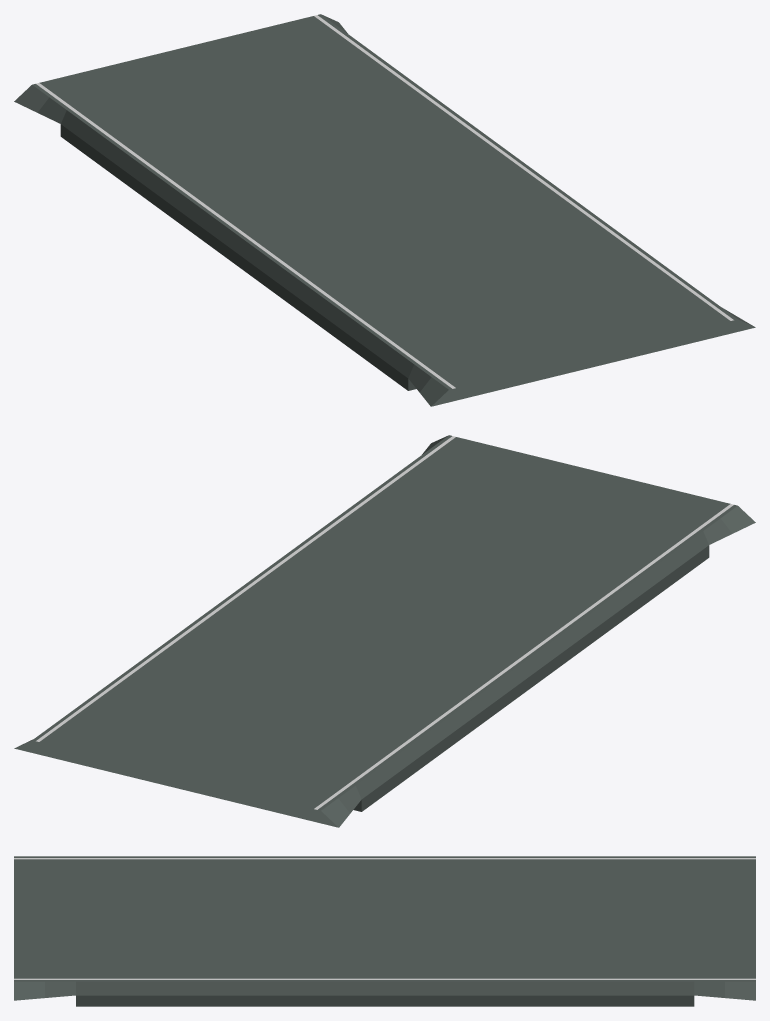
Rendered from Straight_Bridge.fbx.
The picture shows the model from 3 angles, top to bottom: view 1: azimuth 30°, elevation 25°; view 2: azimuth 150°, elevation 25°; view 3: azimuth 270°, elevation 25°; orthographic projection. The views are drawn at different scales.
Visible parts, largest first — view 1: Road; view 2: Road; view 3: Road.
Part boxes in pixels (x1,y1,x2,y2): Road: (14, 14, 755, 406); Road: (14, 435, 755, 827); Road: (14, 856, 755, 1006).
Bounding box in the file's own units: 27 × 2 × 60.
